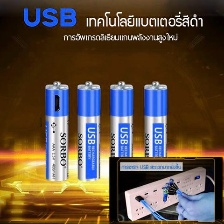battery: (141, 79, 171, 182), (42, 79, 70, 182), (74, 80, 102, 182), (108, 78, 135, 181)
